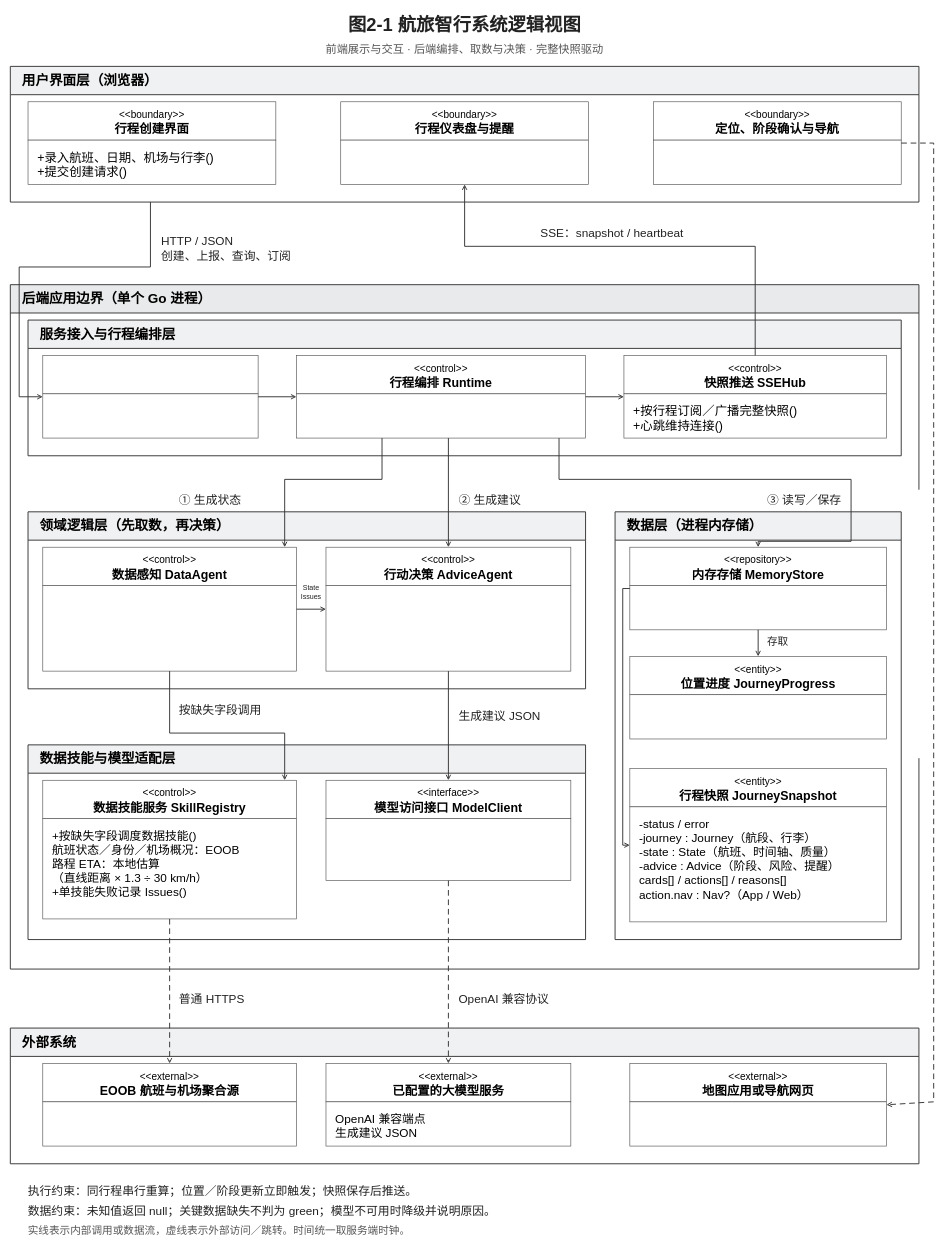
This 949x1248 diagram has some shape labels left out. The shapes that lost their labels are listed below. From the top down, each one's centre as x and y in pixels, then its label:
the point at 464,162: +渲染状态、时间轴、指标与行动() +按 alert 去重提醒；断线轮询()
the point at 777,162: +授权定位／手动确认阶段() +仅 nav 非空时提供导航入口()
the point at 150,374: <<control>> API 请求处理
the point at 150,415: +校验请求／返回受理结果() +查询快照／建立 SSE 订阅()
the point at 441,415: +创建行程／更新进度／串行重算() +先取数再决策；统一保存与发布()
the point at 758,607: +读写行程、快照与内部进度() -Map 存储，随进程生命周期存在
the point at 923,623: 用户点击导航：nav.app 优先，失败回退 nav.web
the point at 169,628: +核验观测／评估数据质量() +生成 State 与 Issues() +补全行程身份（按需）() 单源失败不终止分析
the point at 448,628: +计算时间事实／判断阶段与风险() +生成指标、行动、提醒与依据() +校验输出／执行风险下限() +生成导航链接()
the point at 758,716: -当前位置／手动确认阶段 仅内部使用，不进入快照契约
the point at 448,849: +调用已配置模型生成 JSON() +封装超时与并发限制()
the point at 169,1123: 航班状态／身份补全 机场概况／计划客流／延误档位
the point at 758,1123: 旅客点击后打开 App 优先，失败回退 Web
